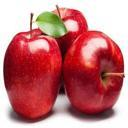apple: (40, 5, 89, 94)
